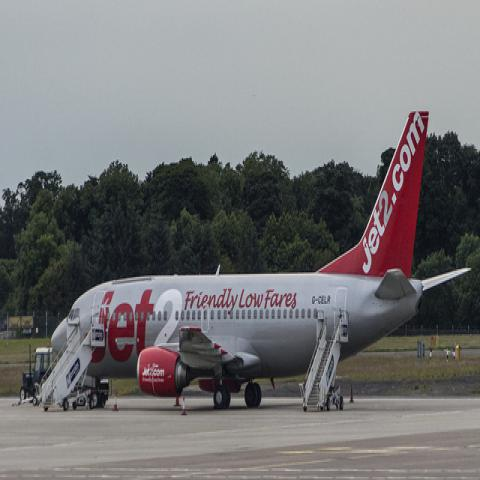truck: (20, 344, 52, 406)
